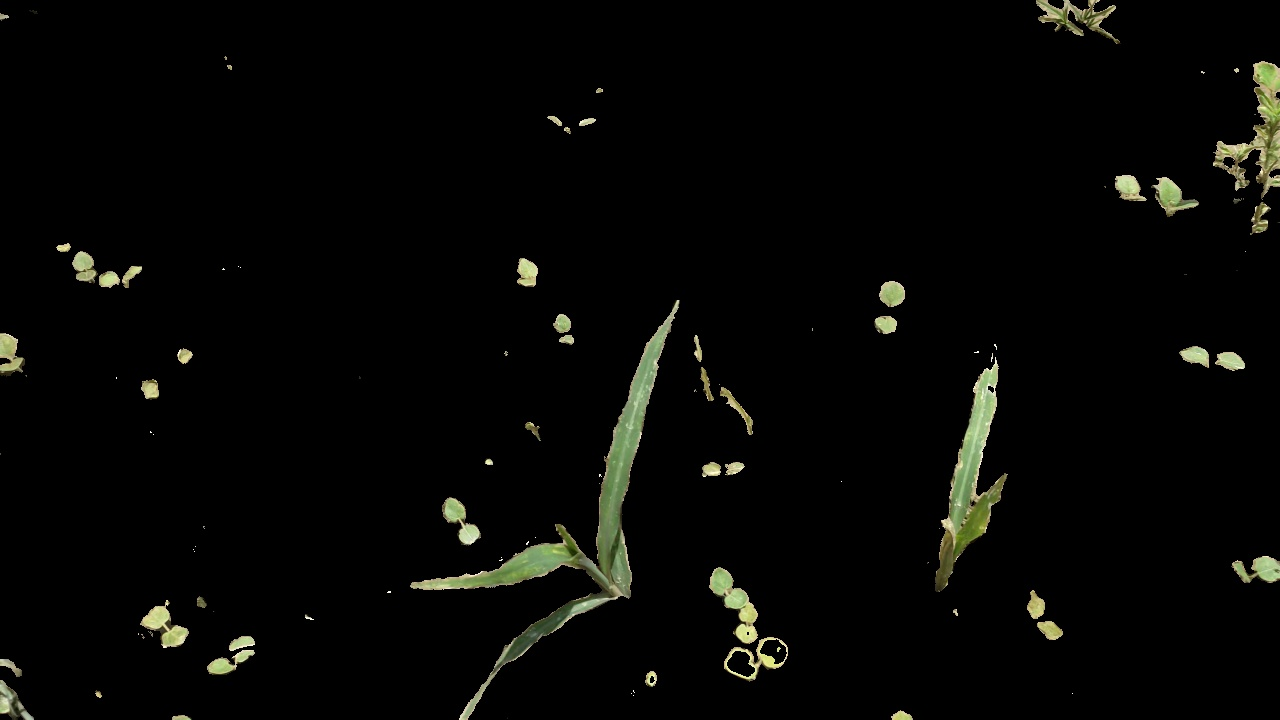crop: (390, 521, 637, 716), (586, 295, 682, 622), (922, 349, 1041, 591)
weed: (701, 559, 794, 681), (1217, 60, 1278, 235), (1101, 152, 1200, 224), (50, 237, 147, 297), (1015, 2, 1128, 45), (205, 630, 281, 685), (1172, 334, 1249, 380), (867, 272, 912, 349), (137, 603, 200, 652), (432, 493, 483, 547), (1026, 583, 1068, 645), (539, 101, 603, 139), (1230, 544, 1280, 591), (1, 323, 35, 387), (695, 453, 754, 485), (547, 306, 584, 351), (129, 379, 174, 407), (515, 251, 544, 291), (169, 345, 198, 364)
